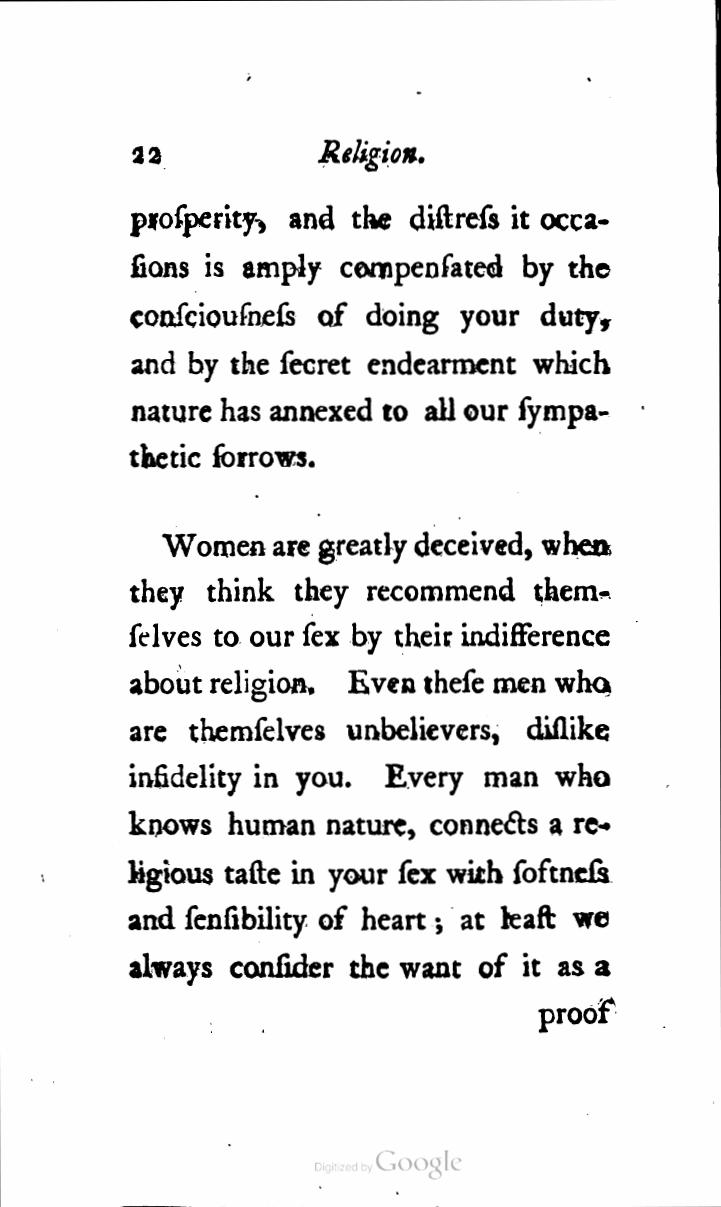bottom_p: (125, 203, 615, 472)
catchword: (537, 993, 618, 1035)
header: (315, 130, 430, 178)
page_num: (127, 138, 168, 172)
top_p: (127, 527, 618, 988)
